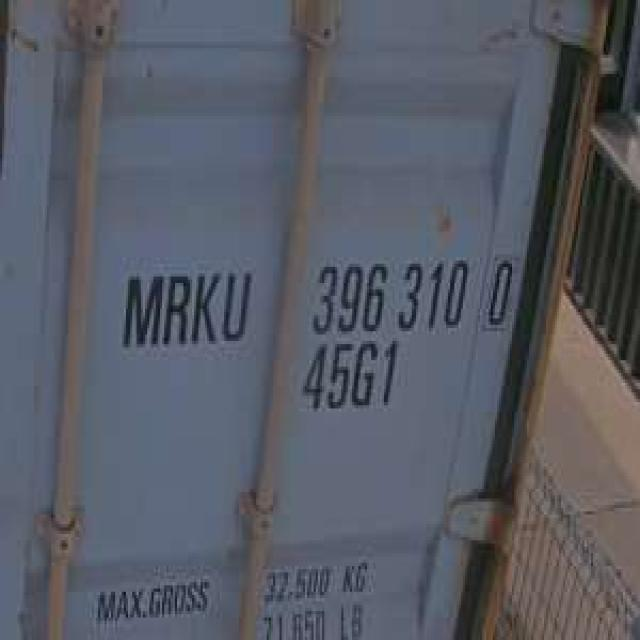dv: (482, 248, 516, 331)
owner: (113, 254, 256, 357)
serial: (305, 244, 472, 338)
size: (297, 335, 403, 418)
